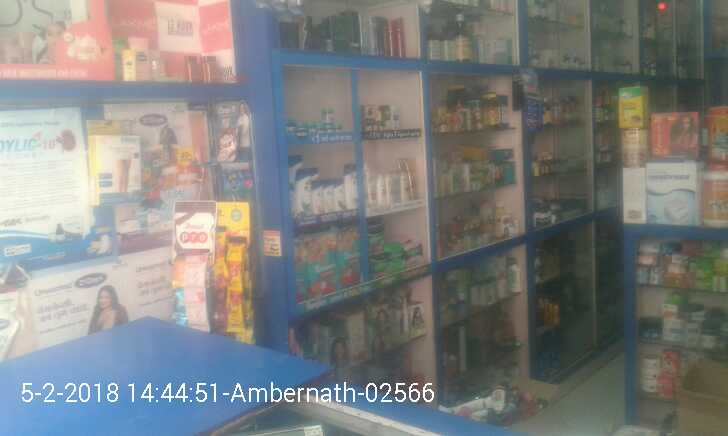vicks: (282, 105, 350, 139)
